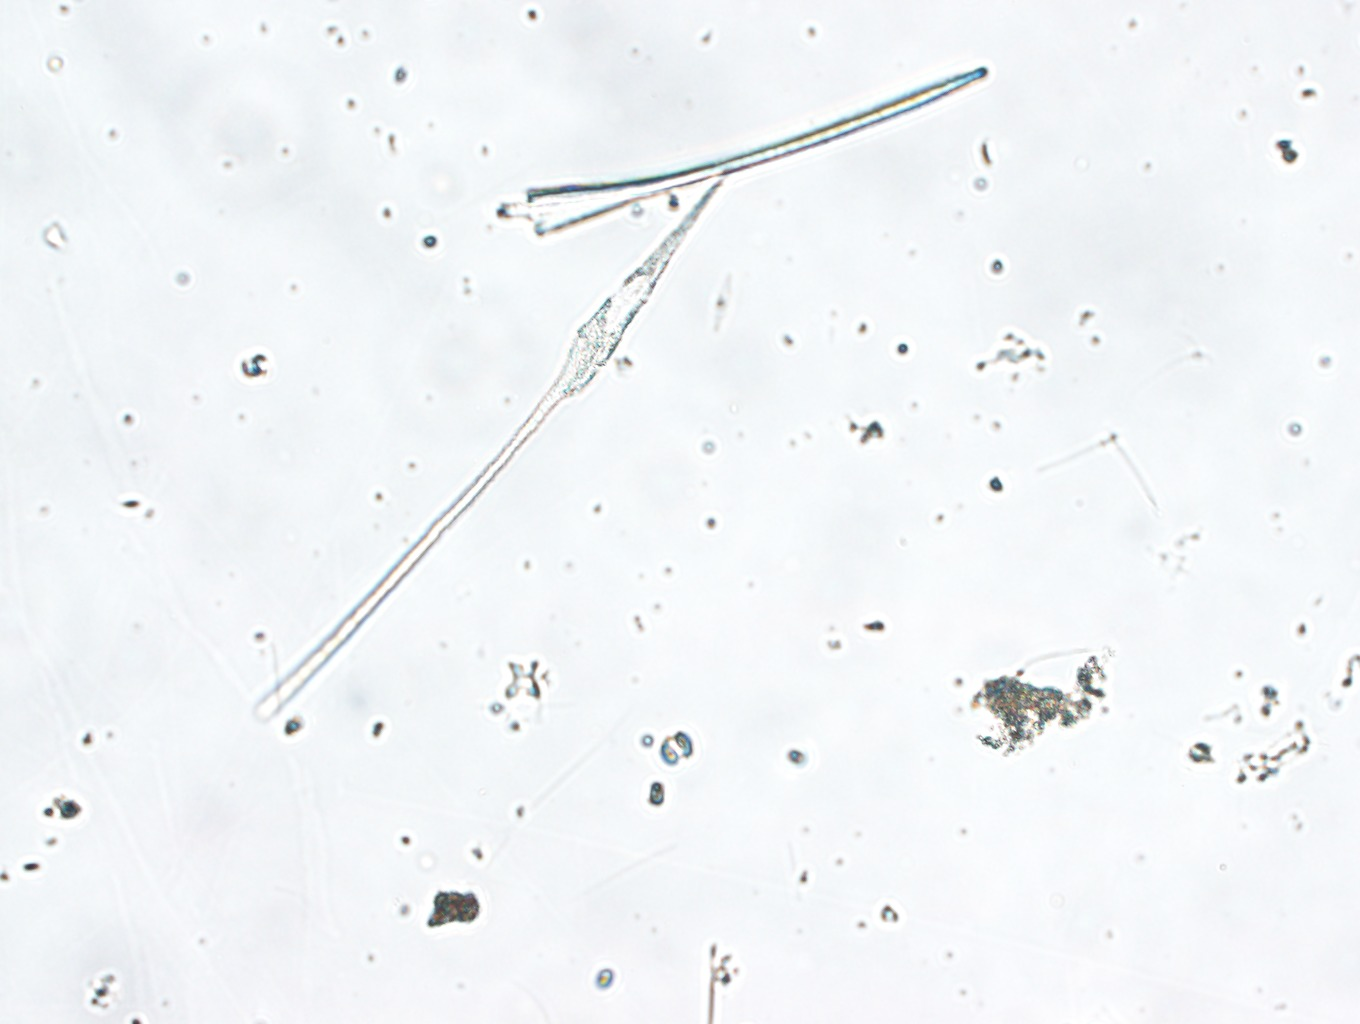ceratium fusus: (233, 176, 719, 719)
